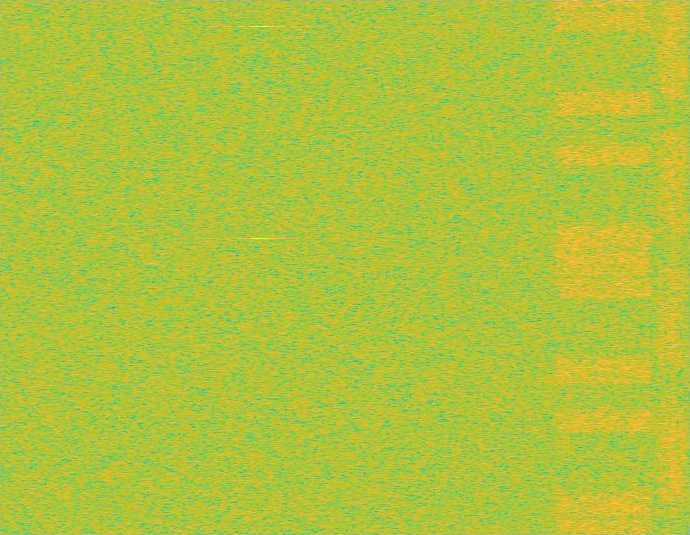5G: (656, 0, 689, 534)
DSSS: (670, 0, 675, 534)
LTE: (552, 0, 656, 534)
Radar: (254, 0, 268, 534)
